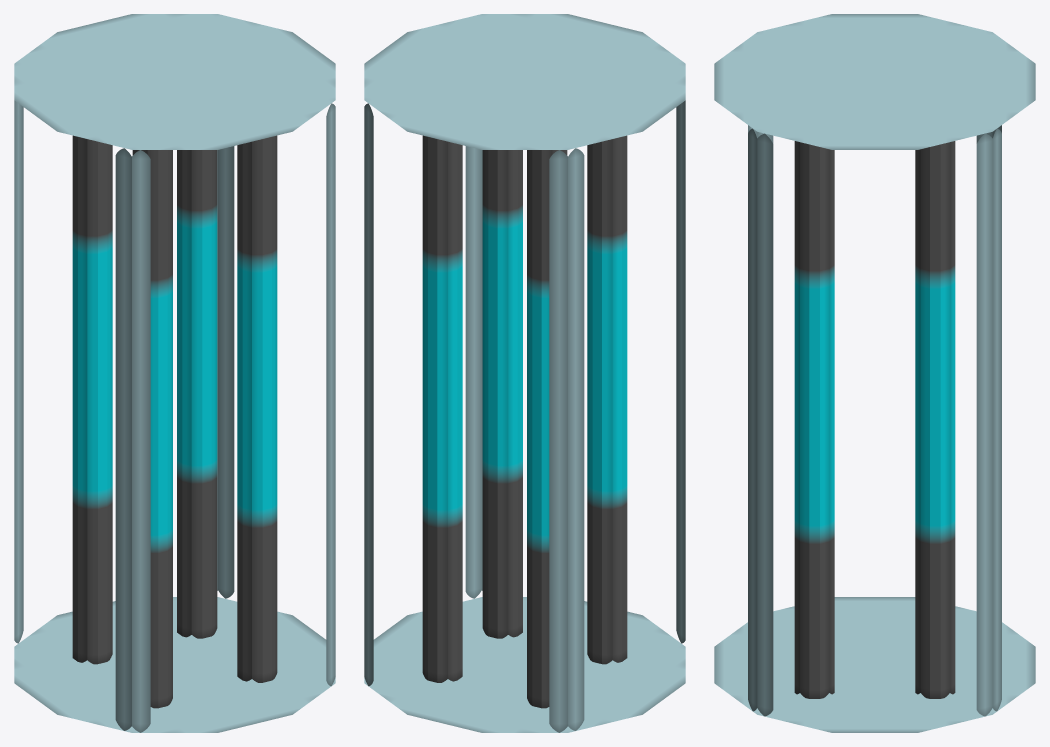
File: time_rotor.obj
3 renders of one model, left to right at view 1: azimuth 30°, elevation 25°; view 2: azimuth 150°, elevation 25°; view 3: azimuth 270°, elevation 25°, orthographic.
Parts seen in each view (by area): view 1: main_cyl, inner_cyl_two, inner_cyl_three, inner_cyl_four, inner_cyl_one; view 2: main_cyl, inner_cyl_four, inner_cyl_one, inner_cyl_two, inner_cyl_three; view 3: main_cyl, inner_cyl_two, inner_cyl_four.
Boxes of the visible parts, x1,y1,x2,y2 form: main_cyl: [14, 14, 335, 732]; inner_cyl_two: [237, 135, 277, 682]; inner_cyl_three: [72, 135, 112, 664]; inner_cyl_four: [177, 150, 217, 638]; inner_cyl_one: [132, 150, 172, 708]; main_cyl: [364, 14, 685, 732]; inner_cyl_four: [422, 135, 462, 682]; inner_cyl_one: [587, 135, 627, 664]; inner_cyl_two: [482, 150, 522, 638]; inner_cyl_three: [527, 150, 567, 708]; main_cyl: [714, 14, 1035, 732]; inner_cyl_two: [794, 141, 834, 698]; inner_cyl_four: [915, 141, 955, 698].
Size of the model in its own units: 1 by 2 by 1.
